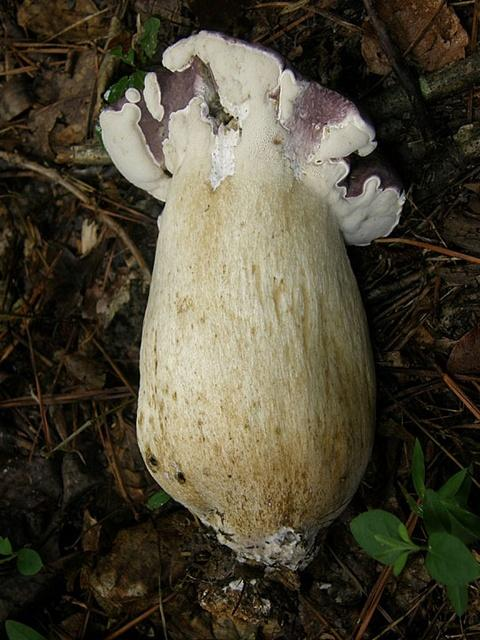Non-edible Mushroom: (96, 28, 407, 572)
